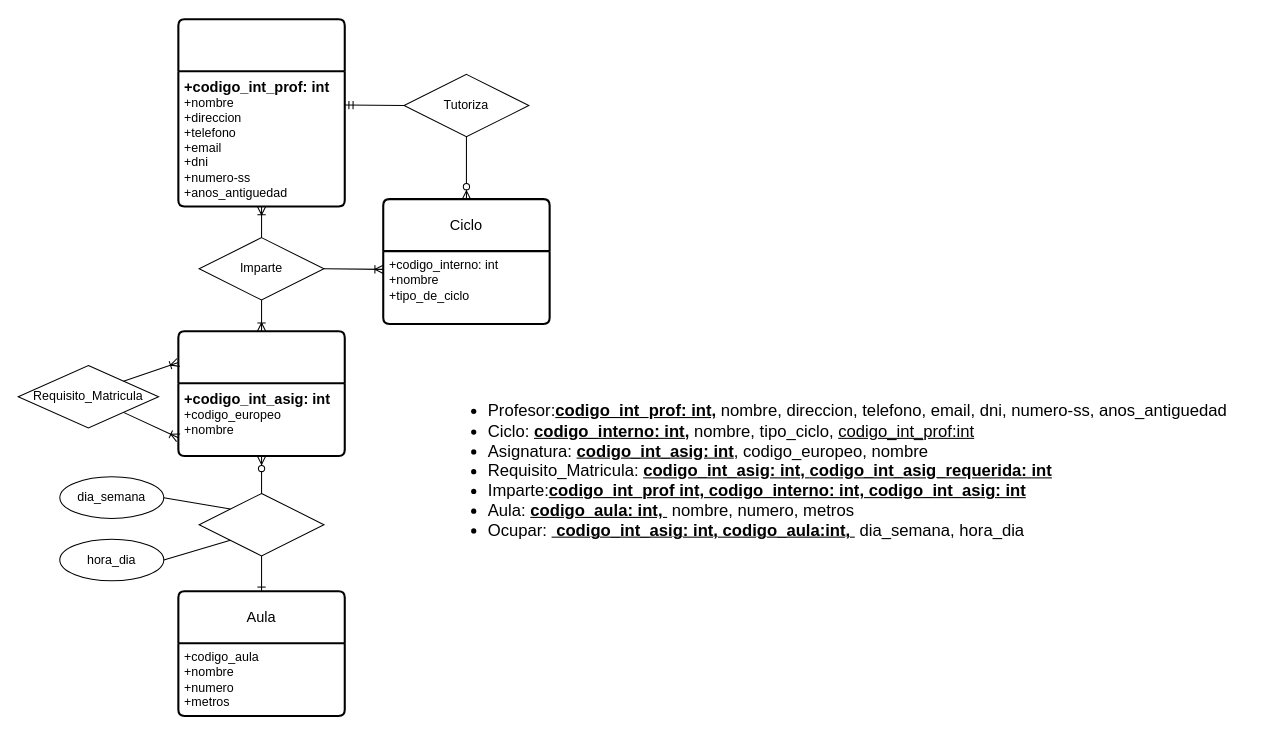
The diagram is 1264 pixels wide and 734 high, and some of its shapes have lost their labels. The shapes that lost their labels are listed below. From the top down, each one's box as (x1, y1, x2, y2) in pixels, then its label:
(177, 18, 345, 207): Profesor
(177, 330, 345, 457): Asignatura
(198, 492, 324, 556): Ocuopar
